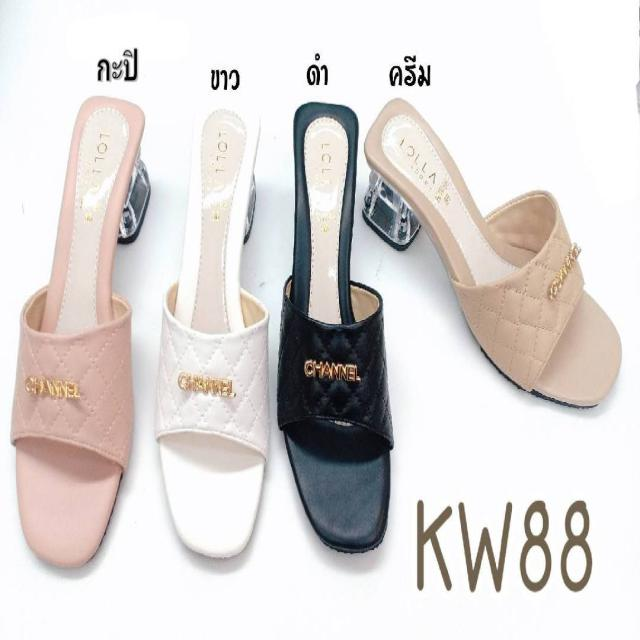black: (278, 102, 388, 560)
cream: (360, 99, 621, 415)
kapi: (16, 91, 138, 563)
white: (155, 96, 268, 561)
